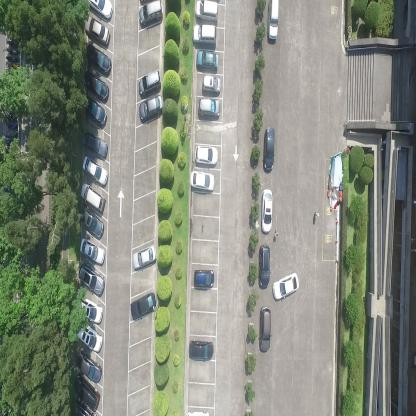car: (73, 375, 101, 412), (77, 263, 106, 296), (78, 202, 104, 238), (74, 350, 102, 383), (82, 70, 110, 103), (82, 13, 110, 46), (84, 44, 112, 76), (76, 322, 103, 354), (272, 272, 300, 302), (129, 292, 157, 322), (81, 155, 108, 186), (82, 129, 108, 160), (78, 238, 106, 265), (80, 184, 105, 214), (82, 96, 107, 126), (78, 294, 102, 324), (138, 0, 163, 28), (138, 68, 162, 97), (258, 306, 272, 354), (188, 338, 216, 362), (139, 94, 162, 123), (262, 126, 276, 173), (188, 169, 215, 193), (132, 243, 156, 270), (266, 0, 280, 44), (260, 188, 273, 235), (192, 23, 218, 46), (194, 143, 219, 166), (192, 0, 220, 20), (258, 244, 270, 290), (197, 97, 221, 119), (196, 48, 219, 70), (193, 267, 215, 290), (87, 0, 113, 19), (72, 400, 98, 416), (202, 74, 222, 94)
